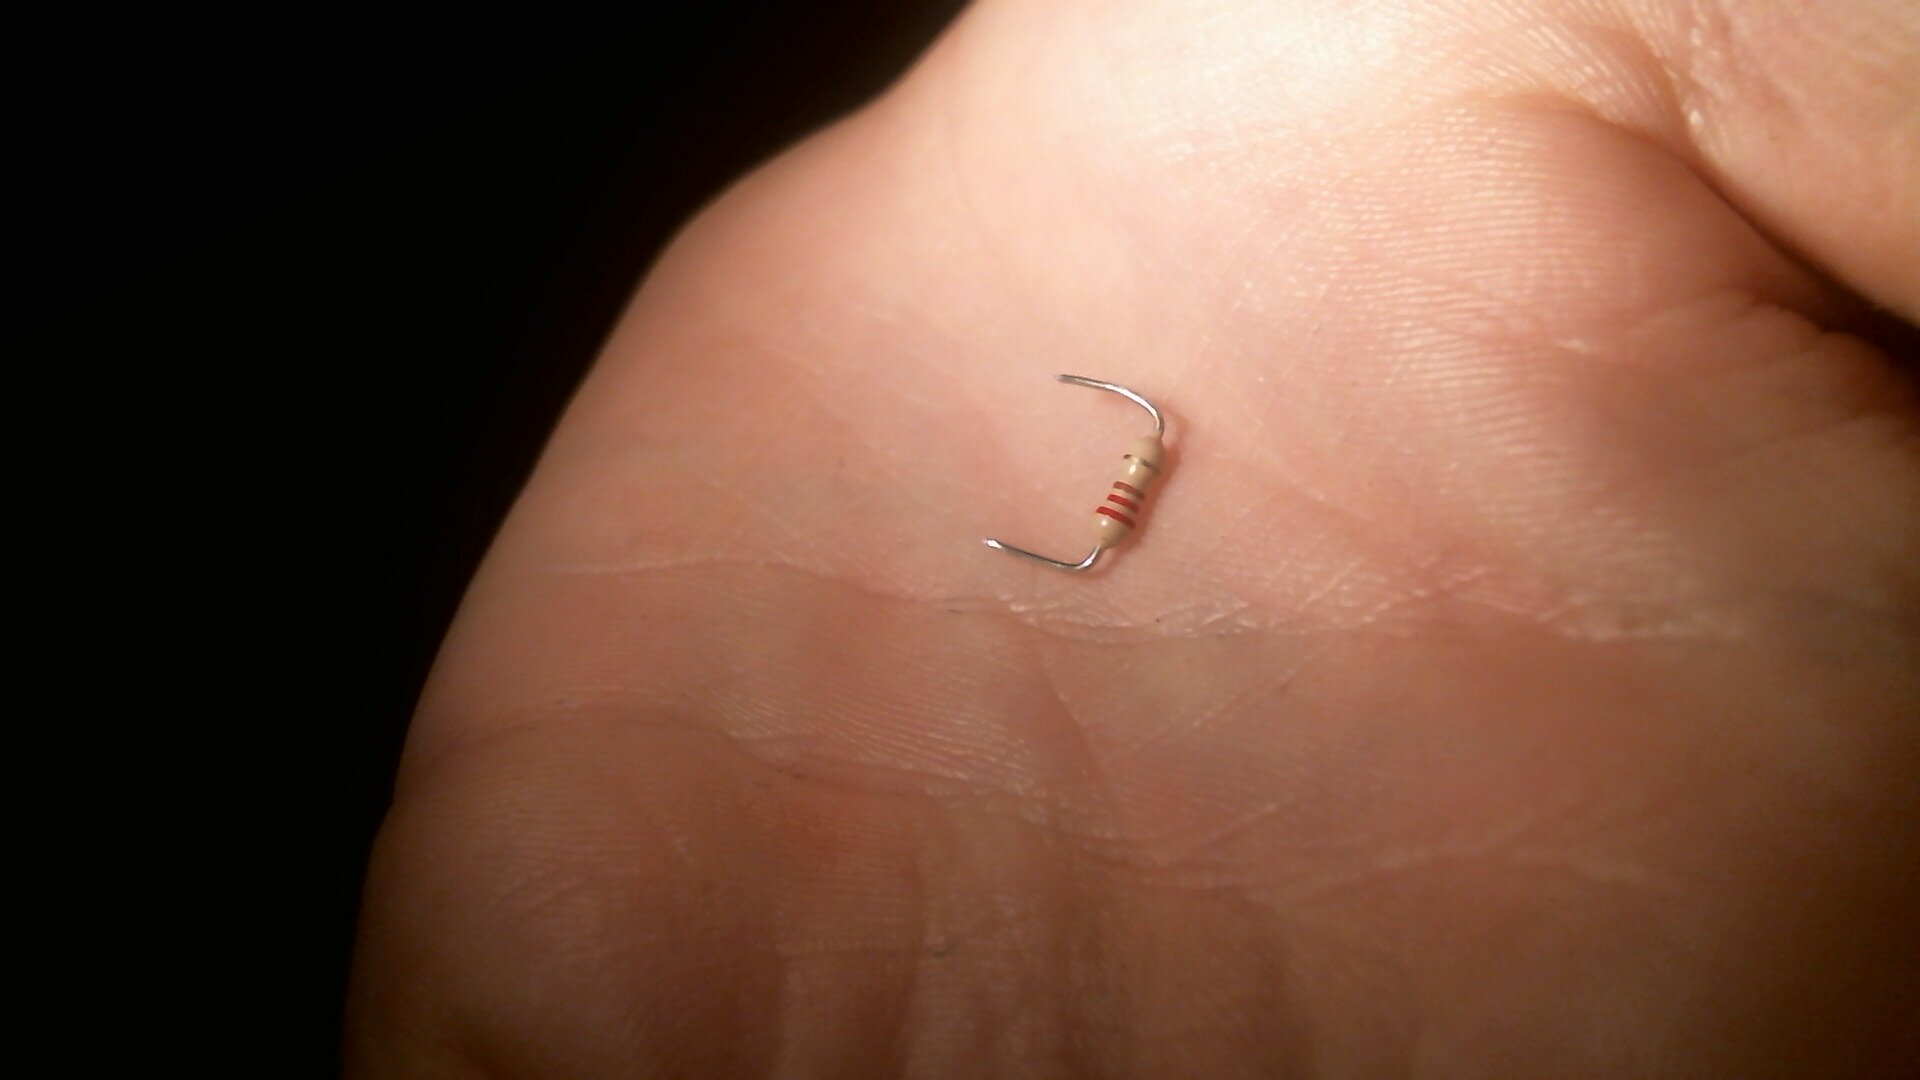resistor: (1084, 419, 1175, 567)
